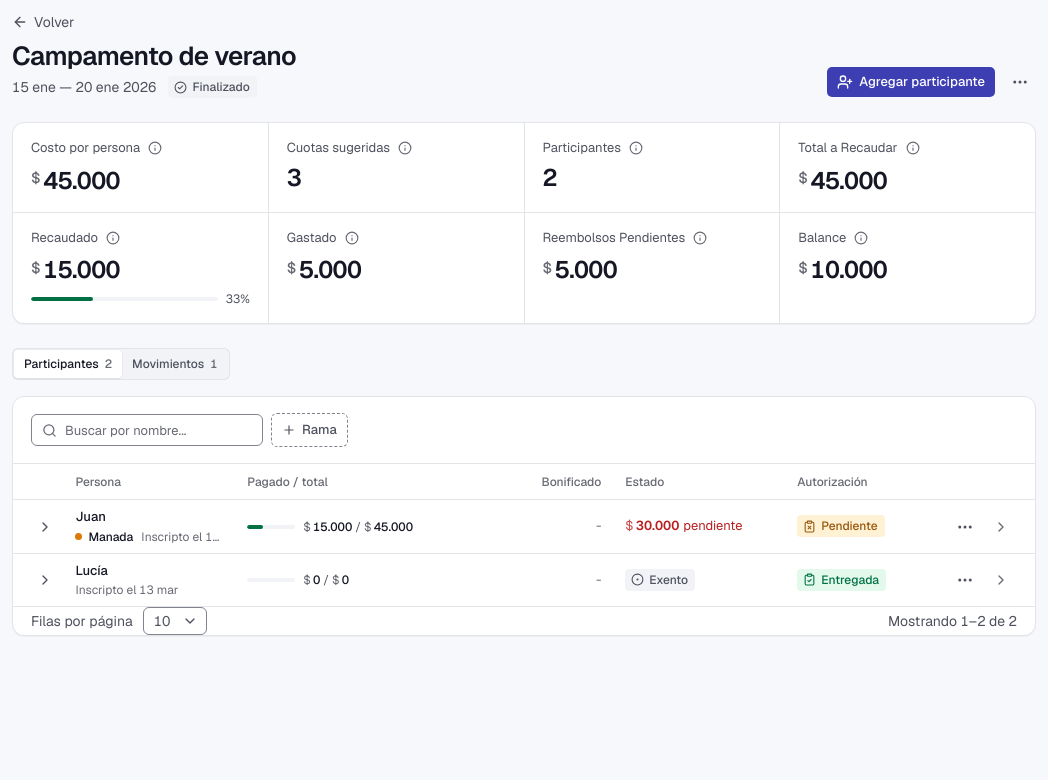
Scenario: CampamentoDetailView › ⋯ del exento: sin pago ni bonificación
This screenshot has width=1048, height=780.
Click the button named "Acciones para Lucía". click: (965, 580)
box: [949,564,981,596]
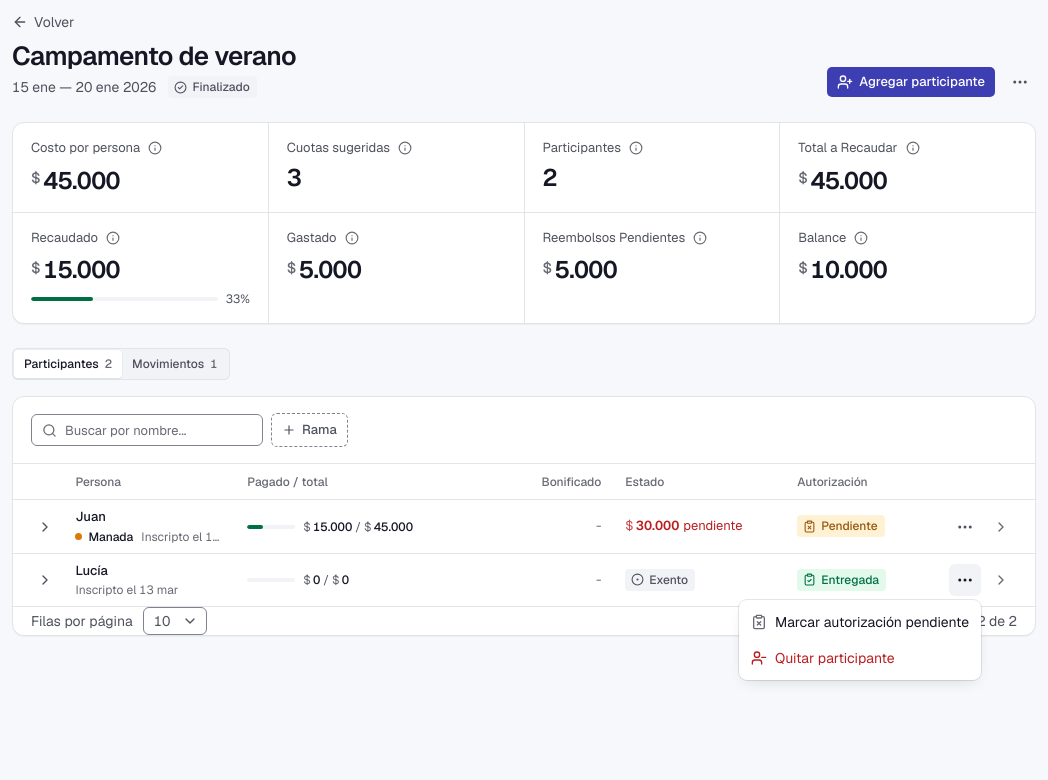
Expected: the menu items read "Marcar autorización pendiente", "Quitar participante", in this order, [751,613,969,631]; [751,649,895,667]
